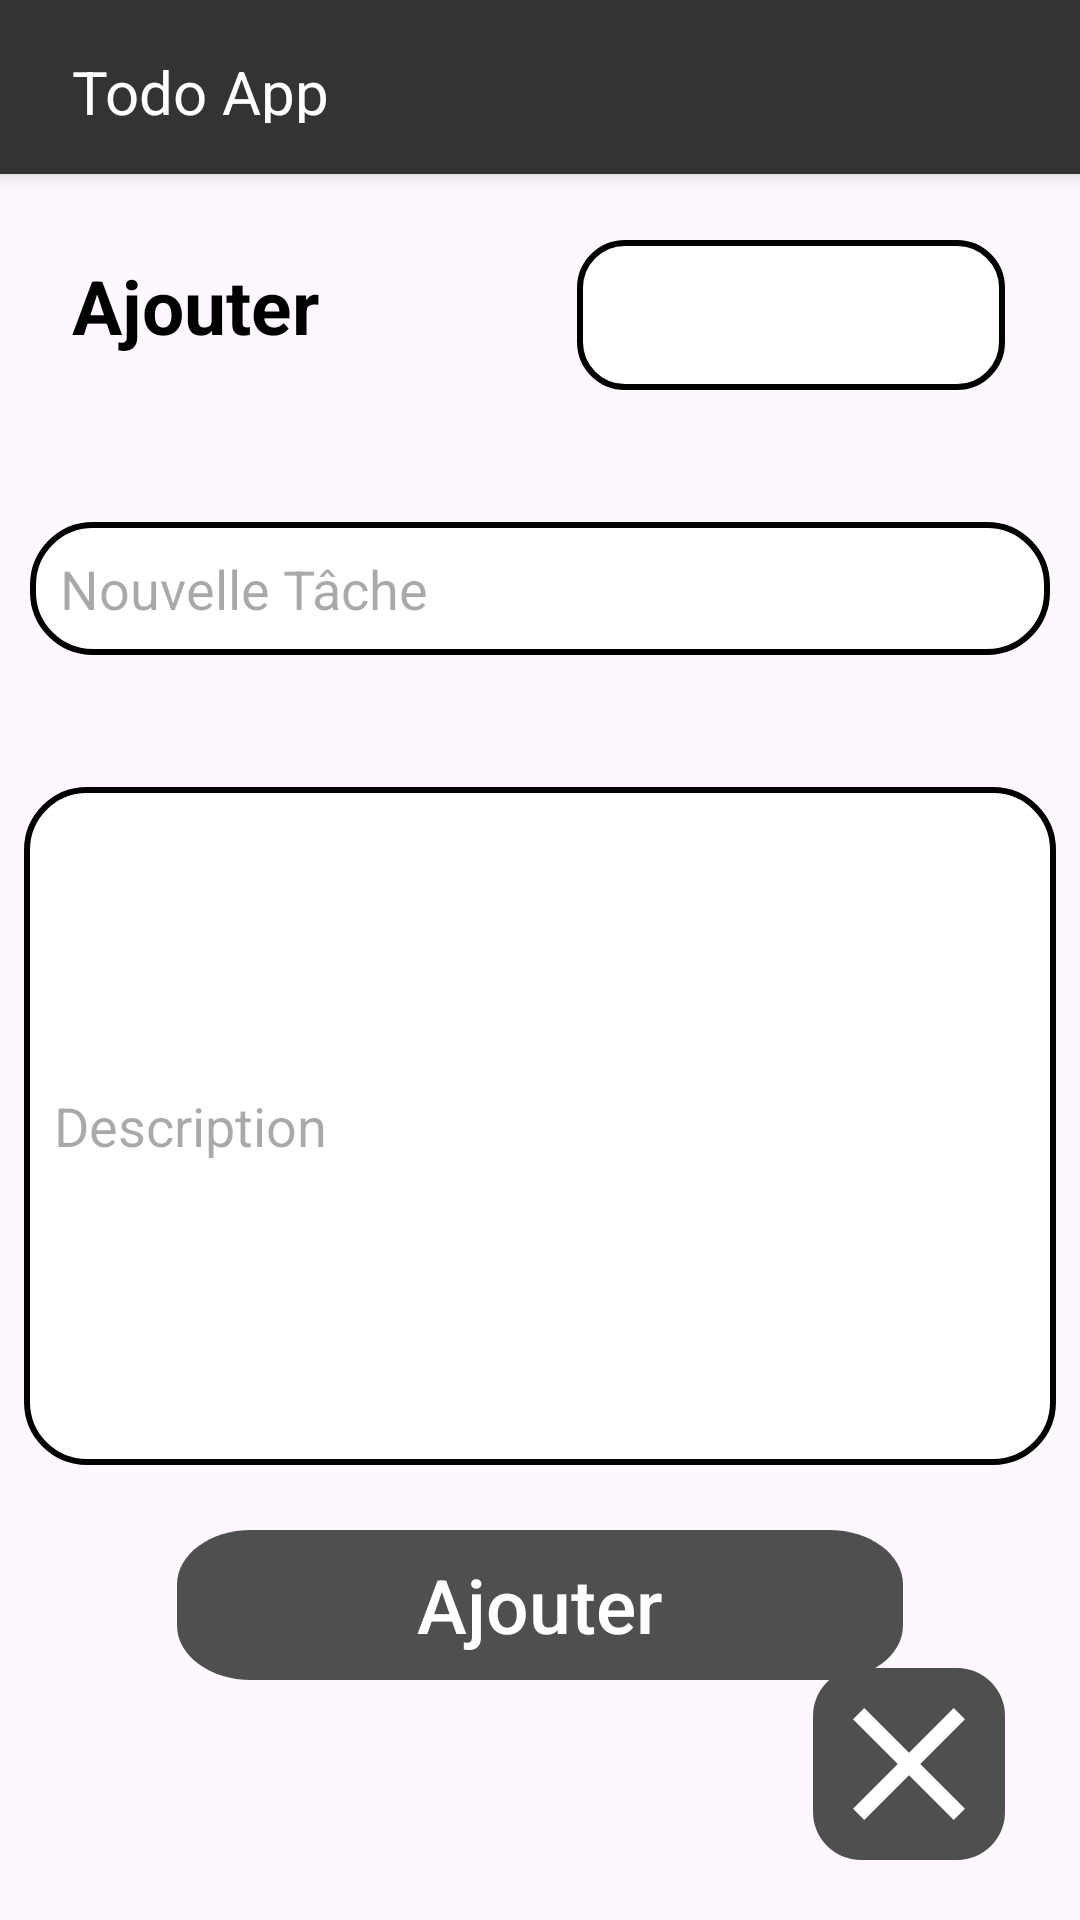

Named icons in this screenshot (1080px x 1920px) and their centers, [x,y]:
close: [909,1764]
